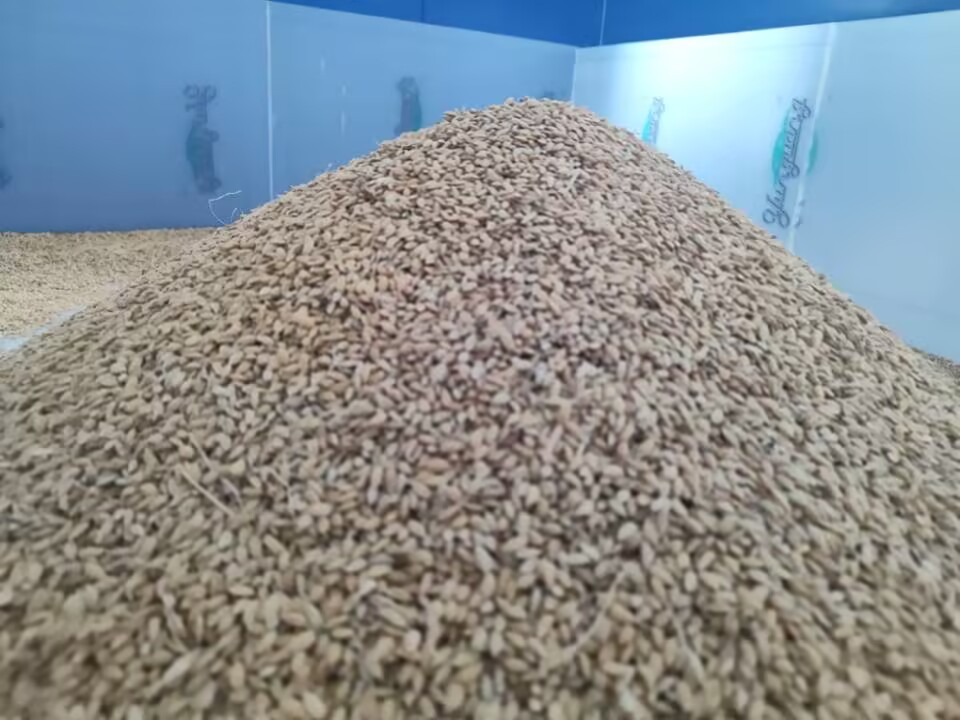Grain: (23, 91, 955, 704)
